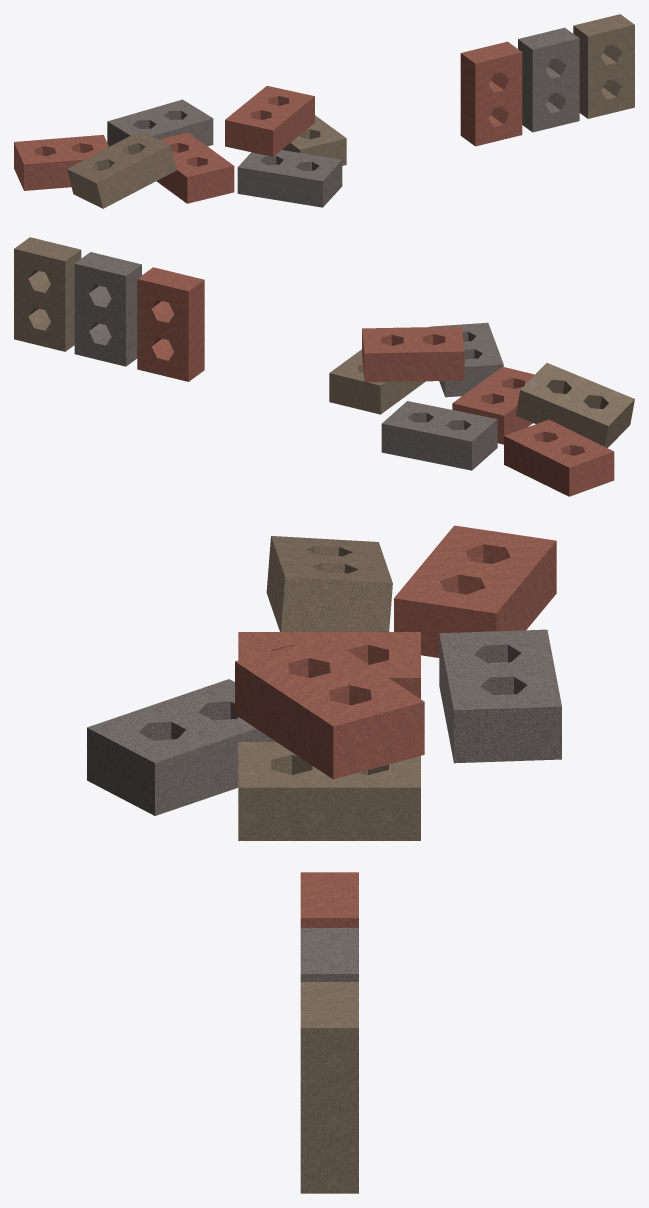
The model's file is Bricks.fbx.
3 renders of one model, top to bottom at view 1: azimuth 30°, elevation 25°; view 2: azimuth 150°, elevation 25°; view 3: azimuth 270°, elevation 25°, orthographic. The views are drawn at different scales.
Visible parts, largest first — view 1: Brick_01; view 2: Brick_01; view 3: Brick_01.
Part boxes in pixels (box(x1,y1,x2,y2)): Brick_01: box(14, 14, 634, 208); Brick_01: box(14, 237, 634, 496); Brick_01: box(87, 525, 561, 1193).
Bounding box in the file's own units: 7.74 × 1.07 × 2.78.
3 materials, 3 textured.
